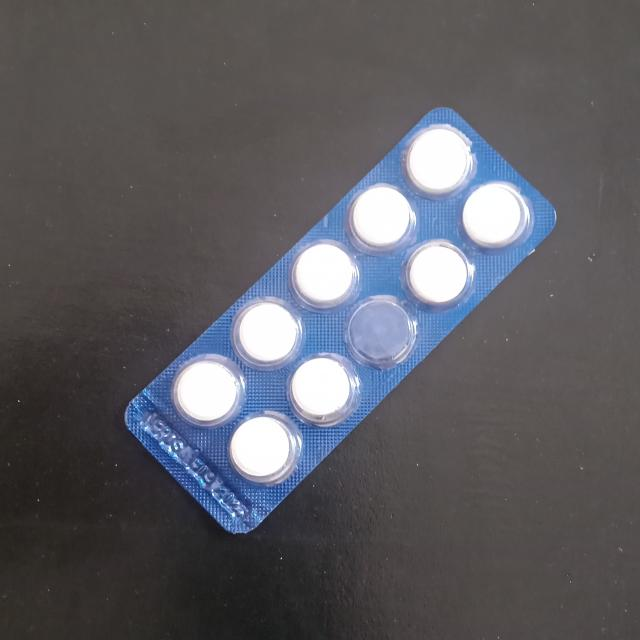defect: (344, 296, 418, 371)
